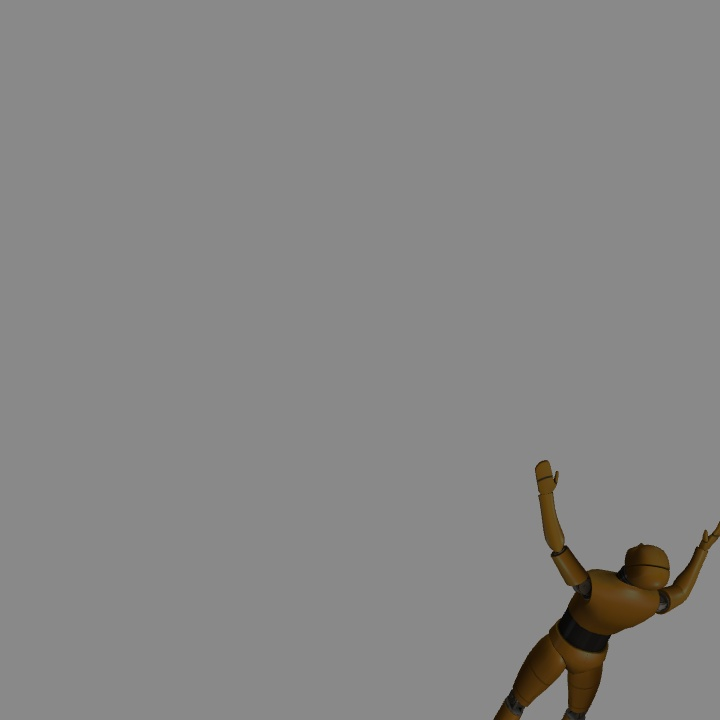victim: (545, 522, 718, 718)
